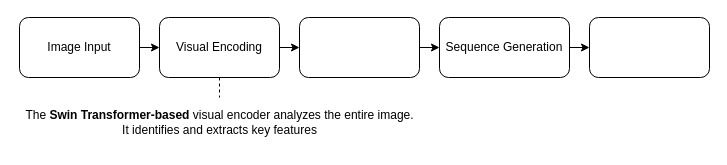
This 727x165 diagram has some shape labels left out. Each missing label, with the centre of its shape:
"Feature Mapping" goes at point 359,47.
"Output Conversion" goes at point 649,47.
